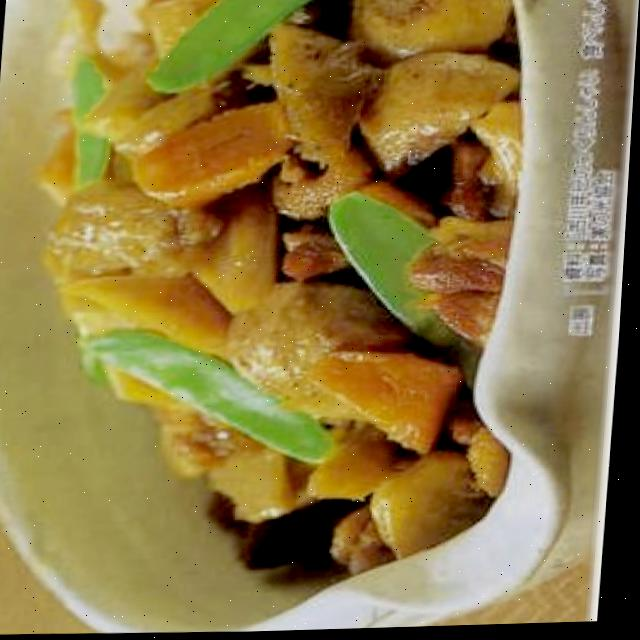鸡肉料理 含炸鸡: (0, 0, 541, 621)
